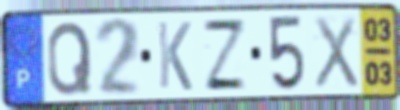2: (93, 16, 144, 100)
5: (268, 13, 307, 93)
K: (155, 19, 195, 93)
Q: (46, 19, 95, 99)
X: (312, 14, 361, 91)
Z: (200, 17, 249, 92)
